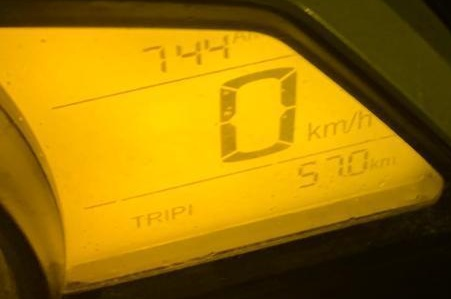-: (343, 172, 346, 179)
0: (347, 147, 367, 175)
1: (187, 199, 193, 219)
4: (173, 38, 202, 66), (203, 34, 229, 59)
5: (296, 159, 321, 189)
7: (140, 42, 169, 74), (325, 153, 343, 175)
X: (322, 120, 344, 137), (357, 107, 372, 130), (306, 120, 321, 142), (344, 110, 357, 132), (170, 204, 185, 220), (130, 212, 145, 228), (146, 210, 162, 224), (232, 29, 246, 43), (379, 155, 396, 166), (370, 156, 378, 170), (162, 207, 169, 222)
